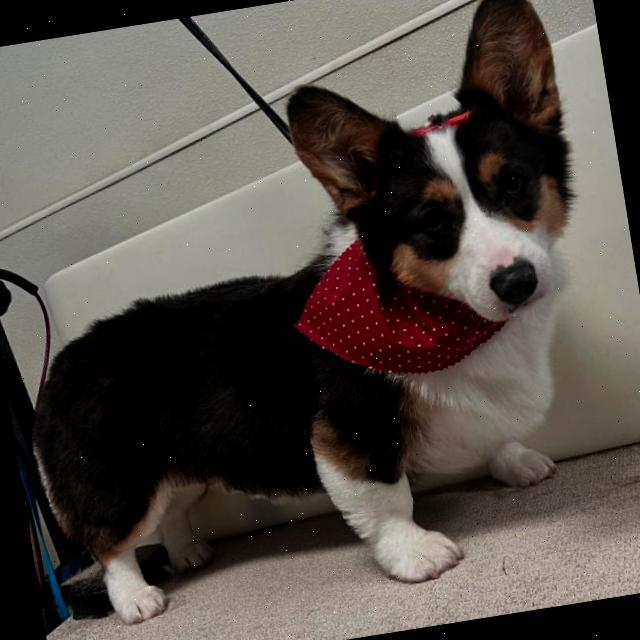corgi_dog: (259, 0, 614, 365)
